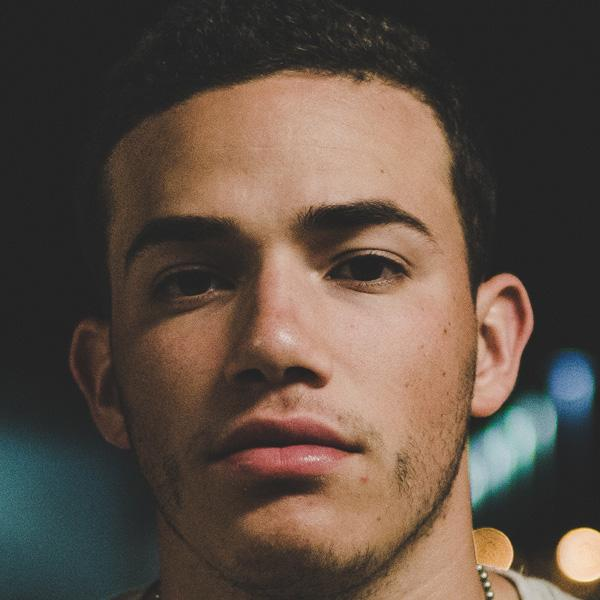Eyes: (309, 239, 418, 299), (141, 253, 239, 318)
